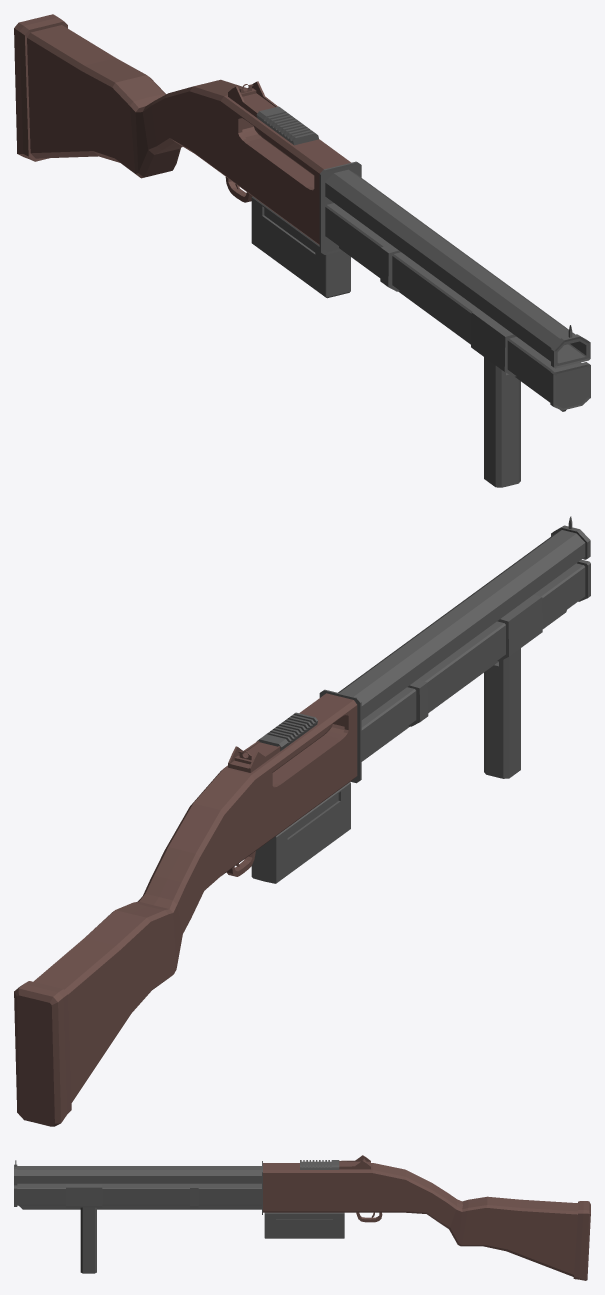
File: Pumppis.fbx
3 views of the same model, one above another, from view 1: azimuth 30°, elevation 25°; view 2: azimuth 150°, elevation 25°; view 3: azimuth 270°, elevation 25° (orthographic). The views are drawn at different scales.
Parts seen in each view (by area): view 1: Body, Barrel, Foregrip, Shell_Injection, Rail; view 2: Body, Barrel, Foregrip, Shell_Injection, Rail; view 3: Body, Barrel, Shell_Injection, Foregrip, Rail.
Boxes of the visible parts, box(x1,y1,x2,y2) form: Body: box(14, 14, 350, 244); Barrel: box(319, 161, 590, 411); Foregrip: box(471, 310, 520, 487); Shell_Injection: box(251, 196, 350, 298); Rail: box(256, 106, 318, 145); Body: box(14, 693, 357, 1126); Barrel: box(319, 516, 590, 783); Foregrip: box(484, 594, 542, 778); Shell_Injection: box(251, 782, 350, 883); Rail: box(256, 712, 317, 751); Body: box(263, 1155, 590, 1280); Barrel: box(14, 1160, 262, 1214); Shell_Injection: box(264, 1212, 344, 1238); Foregrip: box(66, 1183, 102, 1273); Rail: box(300, 1160, 339, 1169).
Size of the model in its own units: 9.66 by 46.46 by 205.
